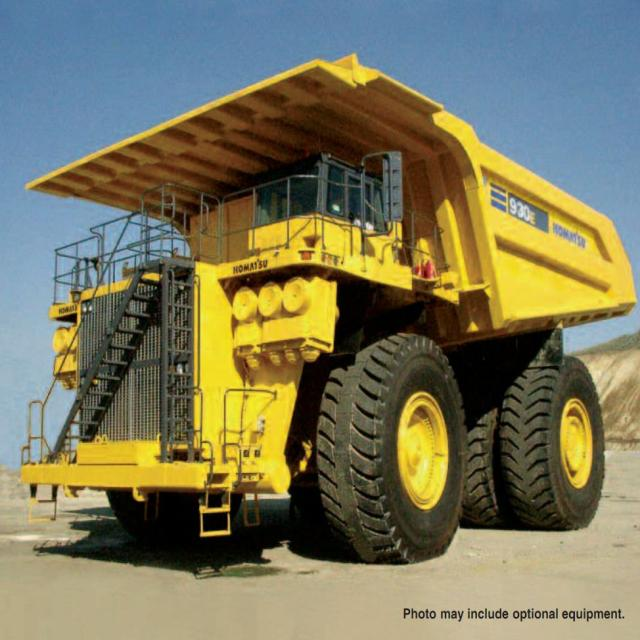dump_truck: (21, 50, 640, 573)
